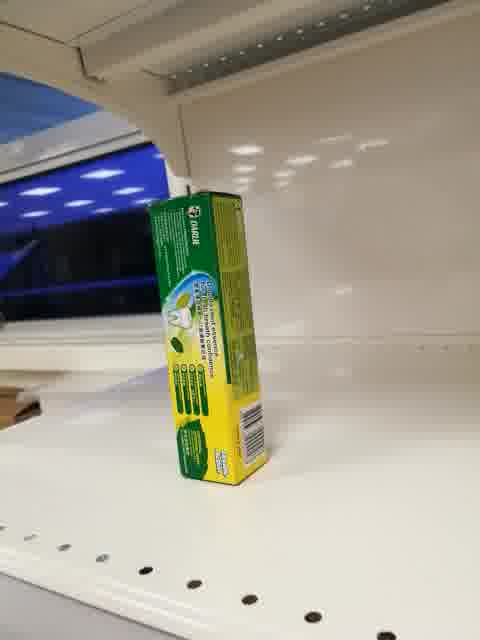toothpaste: (147, 191, 269, 487)
